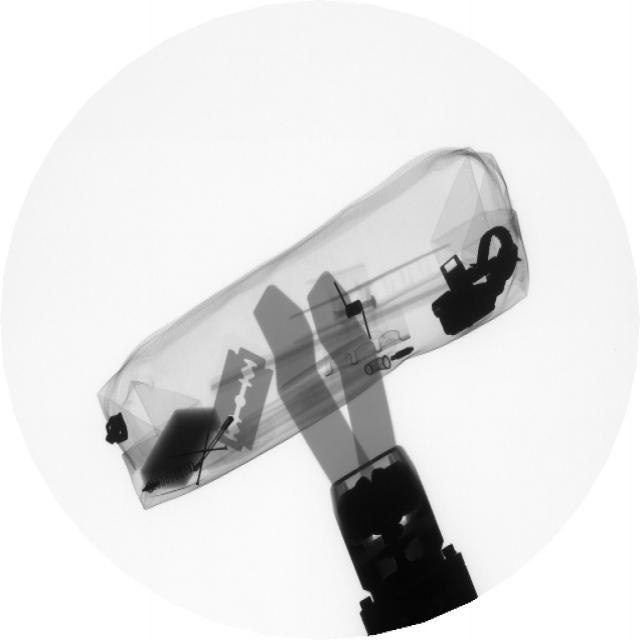BLADE: (212, 343, 276, 463)
